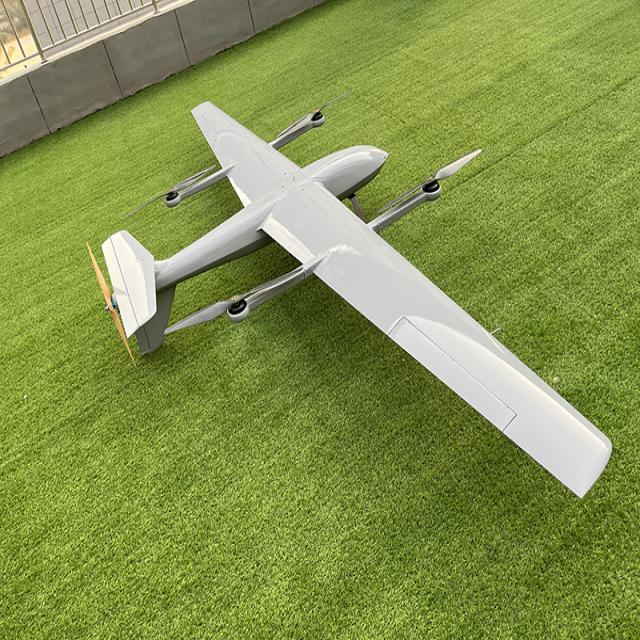iha: (81, 80, 618, 508)
